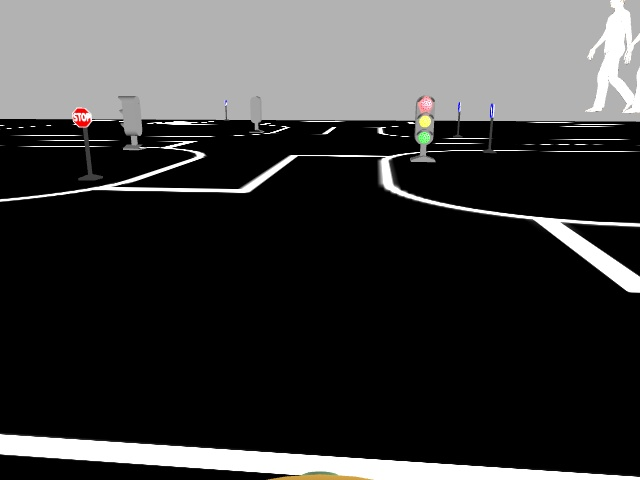Stop: (71, 105, 91, 128)
TrafficLight: (413, 95, 434, 145)
